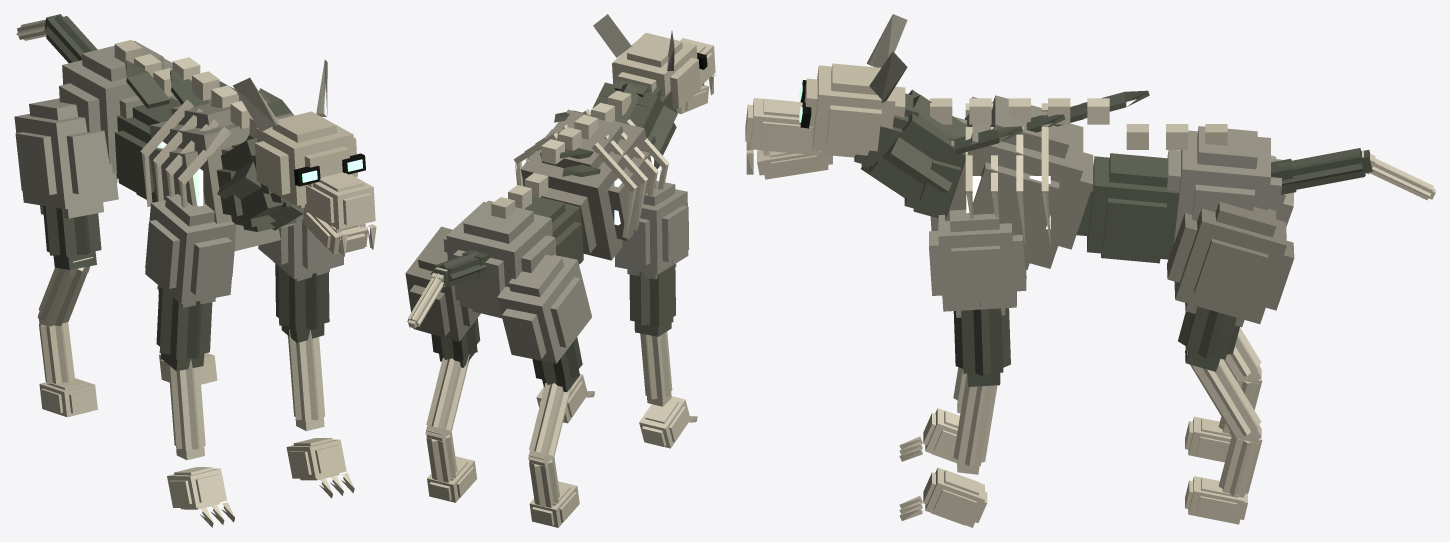
3 renders of one model, left to right at view 1: azimuth 30°, elevation 25°; view 2: azimuth 150°, elevation 25°; view 3: azimuth 270°, elevation 25°, orthographic. The views are drawn at different scales.
Parts seen in each view (by area): view 1: GraveHound; view 2: GraveHound; view 3: GraveHound.
Boxes of the visible parts, x1,y1,x2,y2 form: GraveHound: [14, 14, 376, 527]; GraveHound: [405, 14, 715, 527]; GraveHound: [745, 14, 1435, 527].
Bounding box in the file's own units: 0.4218 × 1.01 × 1.38.
